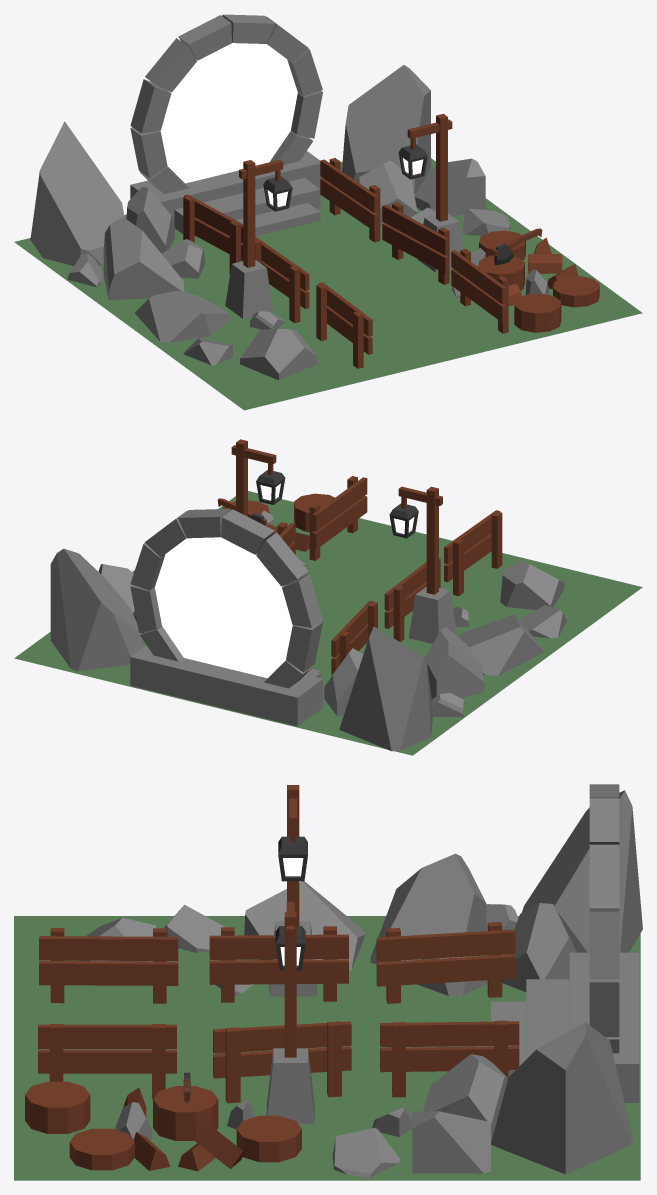
File: portal.glb
3 renders of one model, top to bottom at view 1: azimuth 30°, elevation 25°; view 2: azimuth 150°, elevation 25°; view 3: azimuth 270°, elevation 25°, orthographic. The views are drawn at different scales.
Visible parts, largest first — view 1: Plane, portalLight, Cube.021, Cube.020, Cube.022, Cube.027, Cube.016, Cube.046, Cube.026, Cube.005, Cube.003, Cube (+32 smaller); view 2: Plane, portalLight, Cube.020, Cube.021, Cube.016, Cube.027, Cube.022, Cube.003, Cube, Cube.026, Cube.004, Cube.047 (+20 smaller); view 3: Plane, Cube.020, Cube.002, Cube.003, Cube.021, Cube, Cube.005, Cube.001, Cube.046, Cube.022, Cube.016, Cube.024 (+29 smaller).
Part boxes in pixels (<box>): Plane: <box>14,158,642,410</box>; portalLight: <box>160,43,297,183</box>; Cube.021: <box>30,121,124,265</box>; Cube.020: <box>342,65,430,194</box>; Cube.022: <box>103,216,184,299</box>; Cube.027: <box>135,290,230,342</box>; Cube.016: <box>130,151,322,223</box>; Cube.046: <box>382,202,449,284</box>; Cube.026: <box>240,329,316,380</box>; Cube.005: <box>320,158,380,242</box>; Cube.003: <box>316,282,372,368</box>; Cube: <box>451,249,508,333</box>; Plane: <box>14,491,642,755</box>; portalLight: <box>155,537,292,678</box>; Cube.020: <box>50,548,143,671</box>; Cube.021: <box>339,626,432,751</box>; Cube.016: <box>130,645,322,726</box>; Cube.027: <box>458,614,544,675</box>; Cube.022: <box>425,626,484,699</box>; Cube.003: <box>444,510,502,596</box>; Cube: <box>309,476,367,560</box>; Cube.026: <box>500,560,564,609</box>; Cube.004: <box>409,586,456,643</box>; Cube.047: <box>398,486,442,594</box>; Plane: <box>14,916,640,1180</box>; Cube.020: <box>491,1022,633,1174</box>; Cube.002: <box>376,922,515,1003</box>; Cube.003: <box>39,928,178,1003</box>; Cube.021: <box>522,790,642,952</box>; Cube: <box>38,1024,176,1099</box>; Cube.005: <box>380,1020,519,1097</box>; Cube.001: <box>209,926,348,1002</box>; Cube.046: <box>213,1021,351,1103</box>; Cube.022: <box>370,853,486,963</box>; Cube.016: <box>569,952,639,1102</box>; Cube.024: <box>412,1111,490,1173</box>.
Size of the model in its own units: 4 by 1.77 by 4.01.
